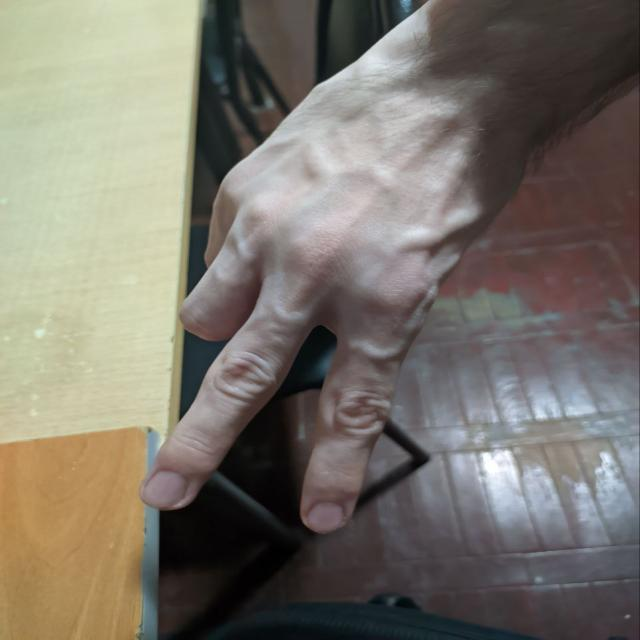l: (146, 85, 454, 547)
